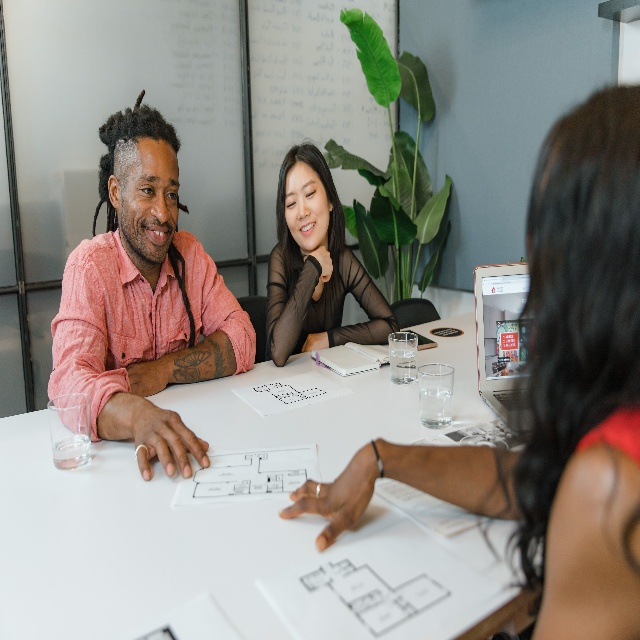Sin_guantes: (278, 435, 382, 552), (133, 399, 211, 484), (123, 358, 169, 397), (301, 243, 334, 283), (300, 327, 330, 356)
